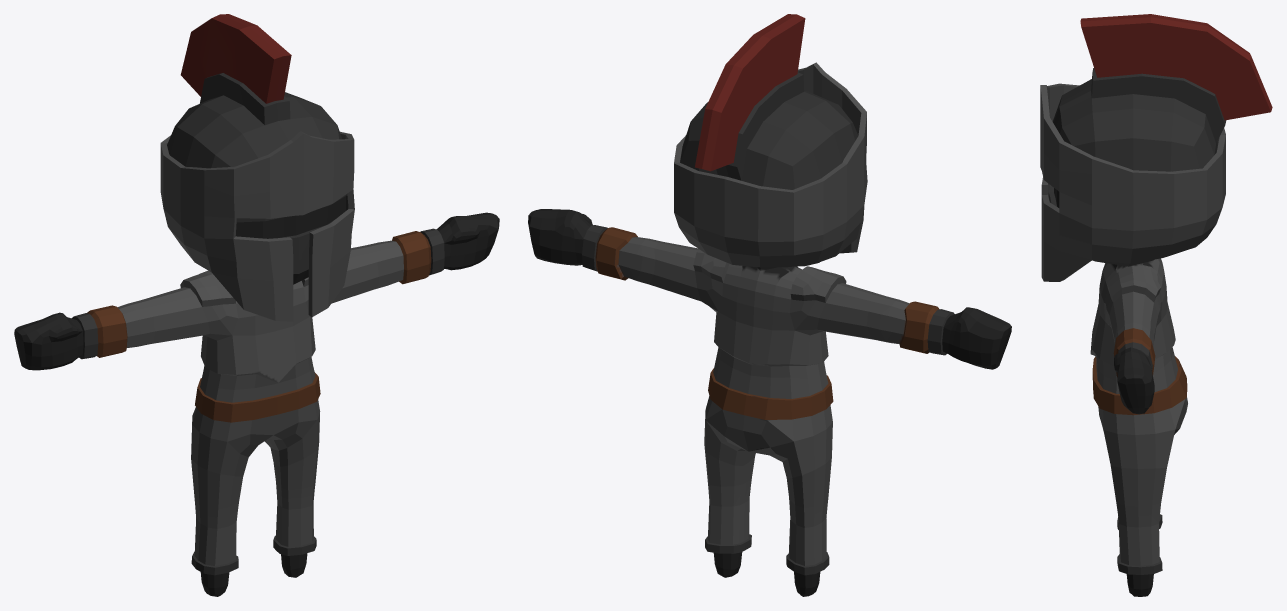
Rendered from Knight_Male.fbx.
3 views of the same model, side by side, from view 1: azimuth 30°, elevation 25°; view 2: azimuth 150°, elevation 25°; view 3: azimuth 270°, elevation 25° (orthographic).
Visible parts, largest first — view 1: Body; view 2: Body; view 3: Body.
Part boxes in pixels (x1,y1,x2,y2): Body: [14, 14, 499, 596]; Body: [528, 14, 1011, 596]; Body: [1040, 14, 1272, 596].
Size of the model in its own units: 324 by 359 by 135.
1 material, 1 textured.
